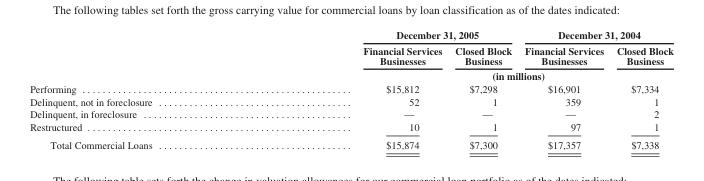table: (29, 28, 672, 150)
table column: (29, 28, 257, 150), (257, 28, 447, 150), (517, 28, 609, 150), (447, 28, 517, 150), (609, 28, 672, 150)
table column header: (29, 28, 672, 81)
table row: (29, 42, 672, 67), (29, 120, 672, 135), (29, 135, 672, 150), (29, 28, 672, 42), (29, 67, 672, 81), (29, 81, 672, 94), (29, 94, 672, 107), (29, 107, 672, 120)
table spanning cell: (257, 67, 672, 81), (257, 28, 517, 42), (517, 28, 672, 42)
